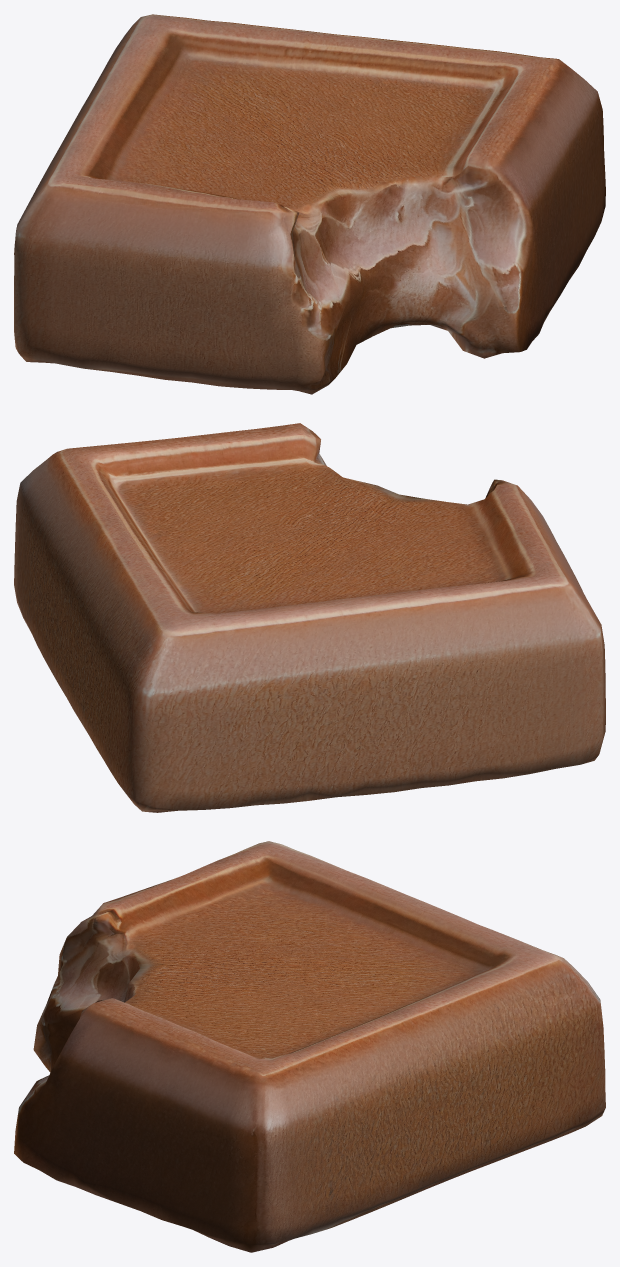
The model's file is chcolate.fbx.
The picture shows the model from 3 angles, top to bottom: view 1: azimuth 30°, elevation 25°; view 2: azimuth 150°, elevation 25°; view 3: azimuth 270°, elevation 25°; orthographic projection. The views are drawn at different scales.
Parts seen in each view (by area): view 1: texture_mapping; view 2: texture_mapping; view 3: texture_mapping.
Part boxes in pixels (left/top/right/bottom): texture_mapping: left=14, top=14, right=605, bottom=394; texture_mapping: left=14, top=423, right=605, bottom=812; texture_mapping: left=14, top=841, right=605, bottom=1252.
Size of the model in its own units: 0.996 by 0.9018 by 0.2915.
1 material, 1 textured.
